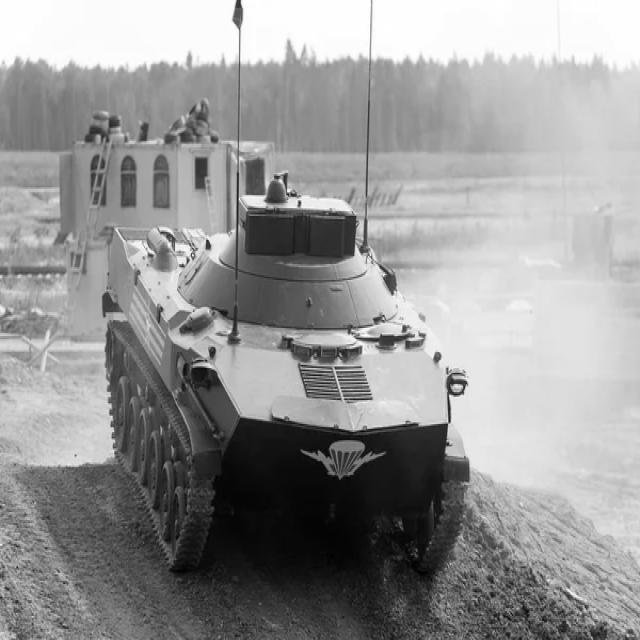Tank: (101, 158, 476, 587)
